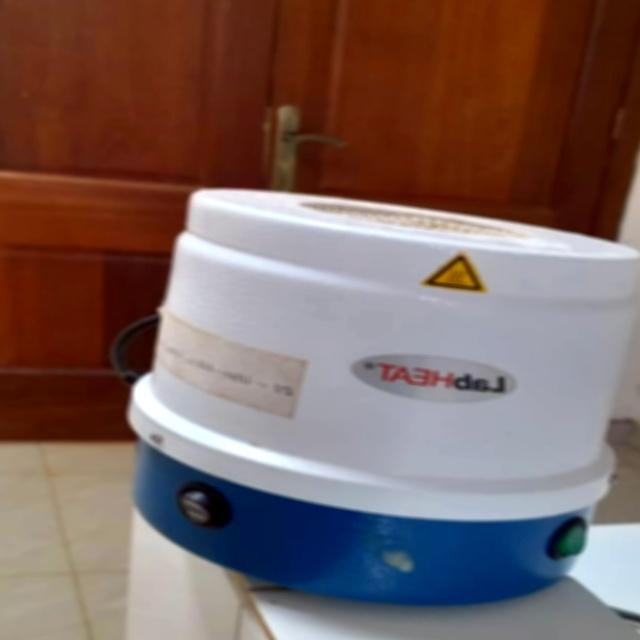Heating Source: (94, 184, 640, 634)
